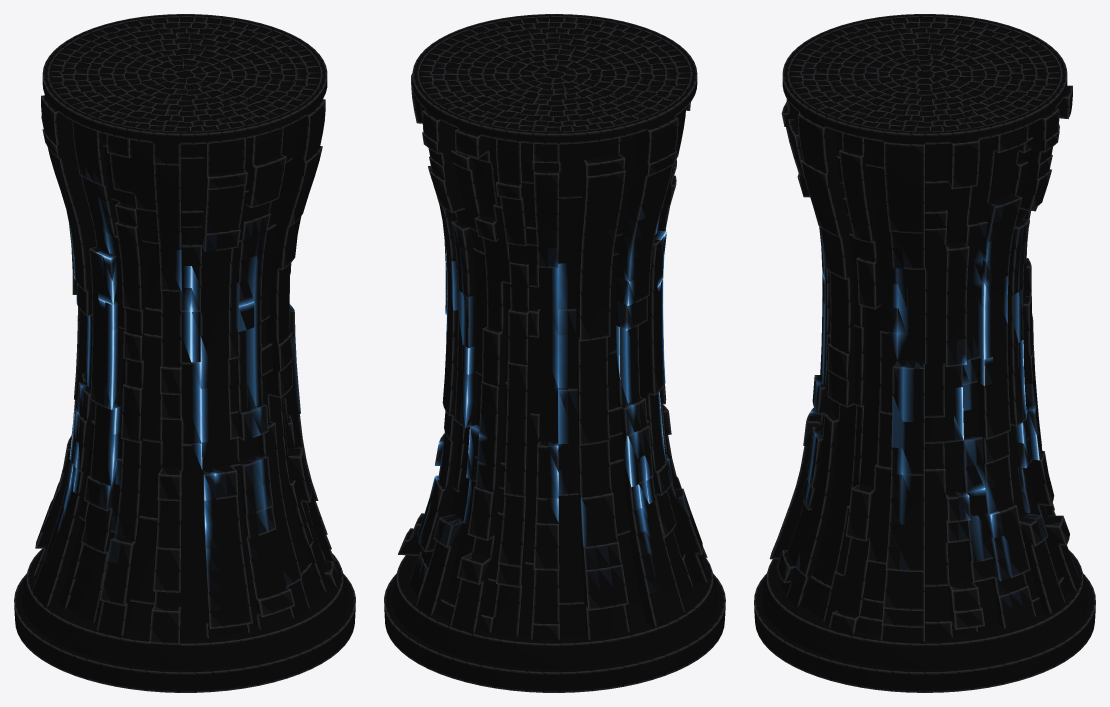
File: island_pillar_large.glb
The picture shows the model from 3 angles, left to right: view 1: azimuth 30°, elevation 25°; view 2: azimuth 150°, elevation 25°; view 3: azimuth 270°, elevation 25°; orthographic projection.
Parts seen in each view (by area): view 1: island_pillar; view 2: island_pillar; view 3: island_pillar.
Boxes of the visible parts, bbox=[...] form: island_pillar: bbox=[14, 14, 355, 692]; island_pillar: bbox=[384, 14, 725, 692]; island_pillar: bbox=[754, 14, 1095, 692].
Bounding box in the file's own units: 3.74 × 6.6 × 3.74.
1 material, 1 textured.
